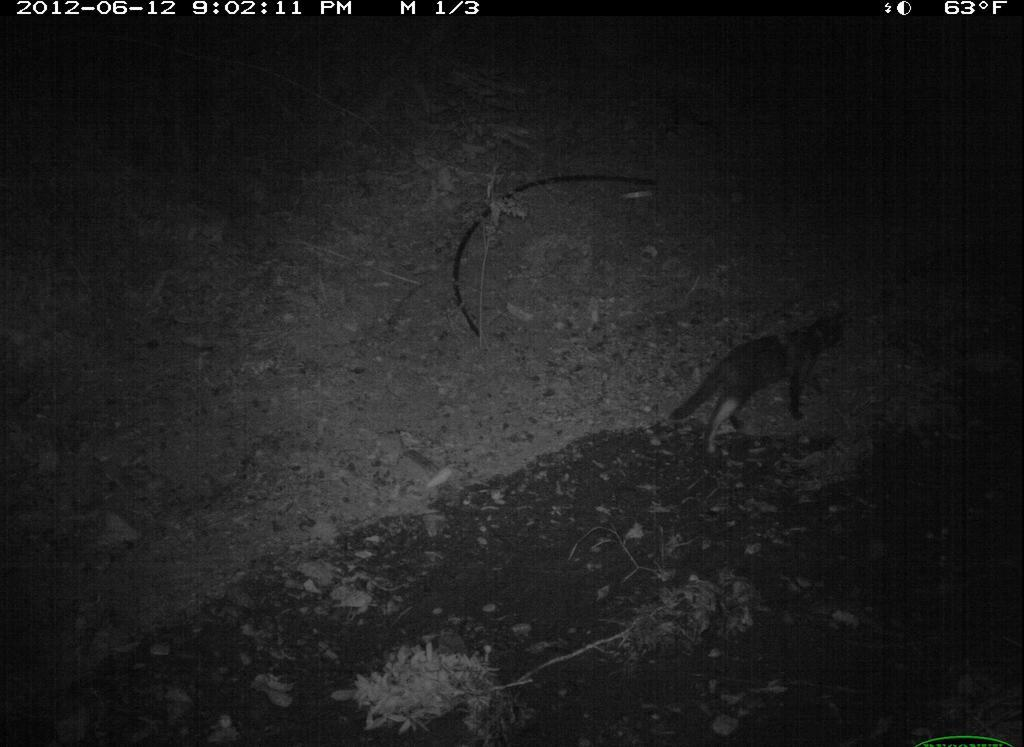cat: (665, 305, 871, 468)
